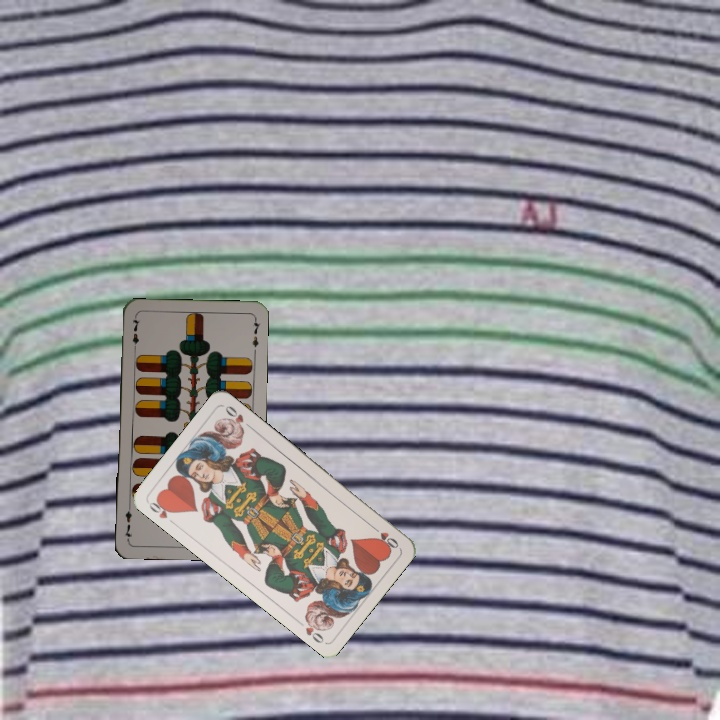E7: (128, 313, 143, 354)
HO: (367, 521, 401, 551), (144, 494, 177, 521)
